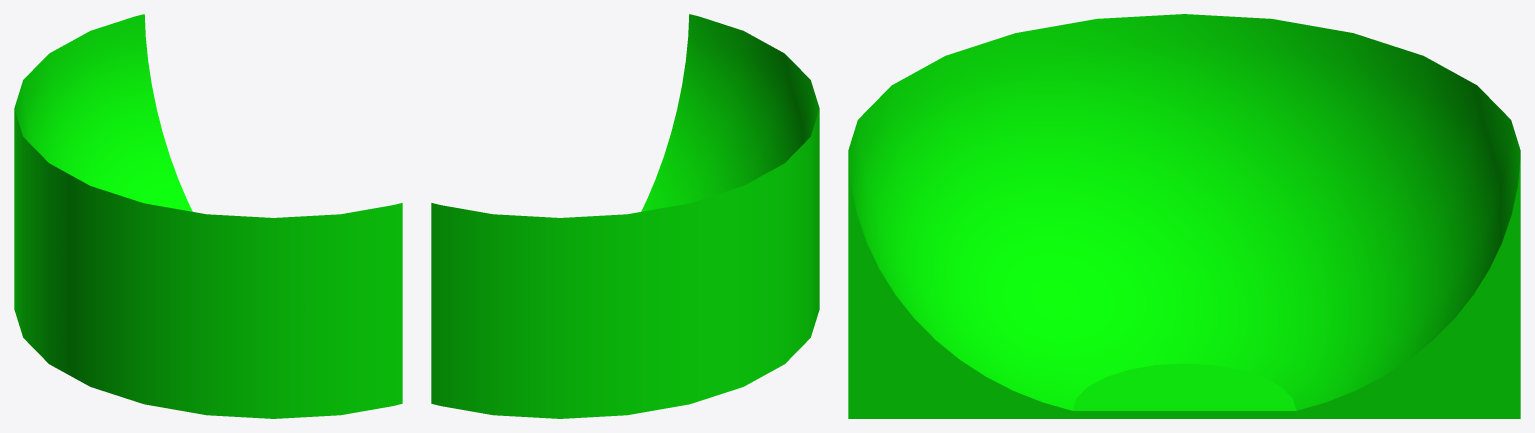
The model's file is frontWall_mesh.fbx.
The picture shows the model from 3 angles, left to right: view 1: azimuth 30°, elevation 25°; view 2: azimuth 150°, elevation 25°; view 3: azimuth 270°, elevation 25°; orthographic projection. The views are drawn at different scales.
Visible parts, largest first — view 1: Model; view 2: Model; view 3: Model.
Boxes of the visible parts, left/top/right/bottom form: Model: left=14, top=14, right=402, bottom=418; Model: left=431, top=14, right=819, bottom=418; Model: left=848, top=14, right=1520, bottom=418.
Size of the model in its own units: 1509 by 1290 by 3000.
